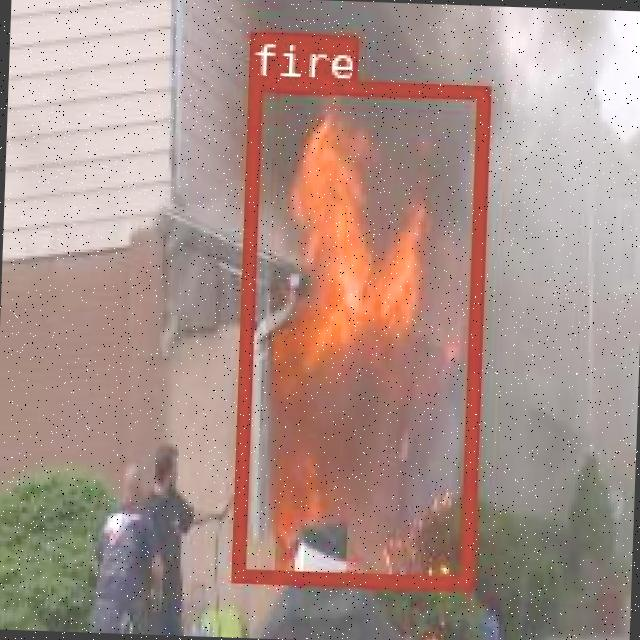fire: (229, 76, 486, 586)
